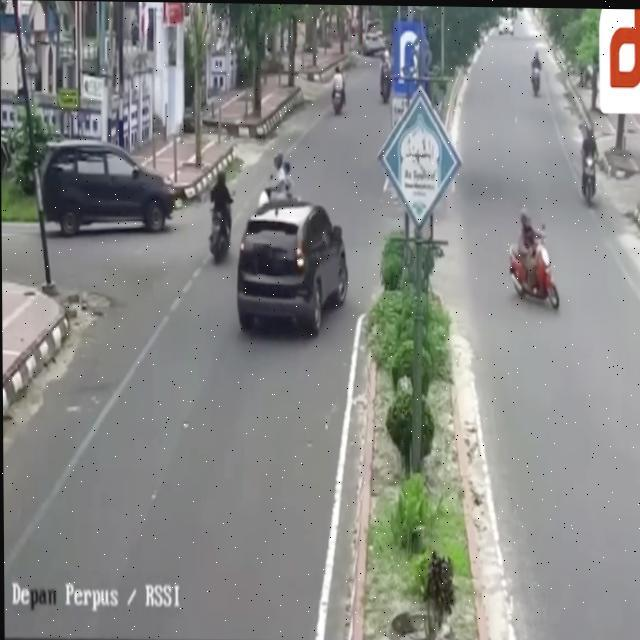multiple_accident: (144, 74, 383, 371)
normal: (33, 114, 188, 248), (488, 177, 588, 341)
